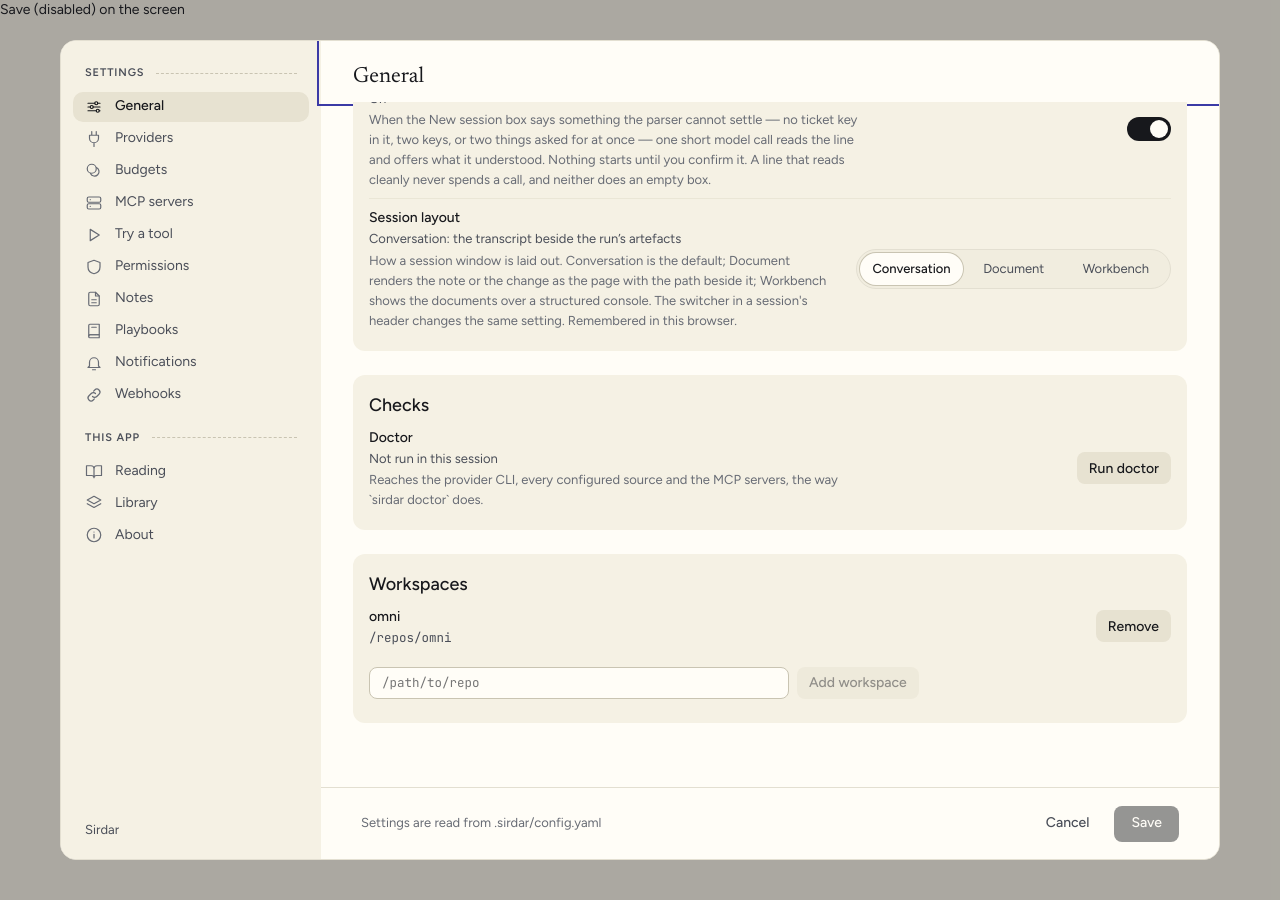
General › runs doctor and lists the rows with the CLI's own marks
(page scrolled)
Click the button "Run doctor".
click(1124, 468)  # box [1077,452,1171,484]
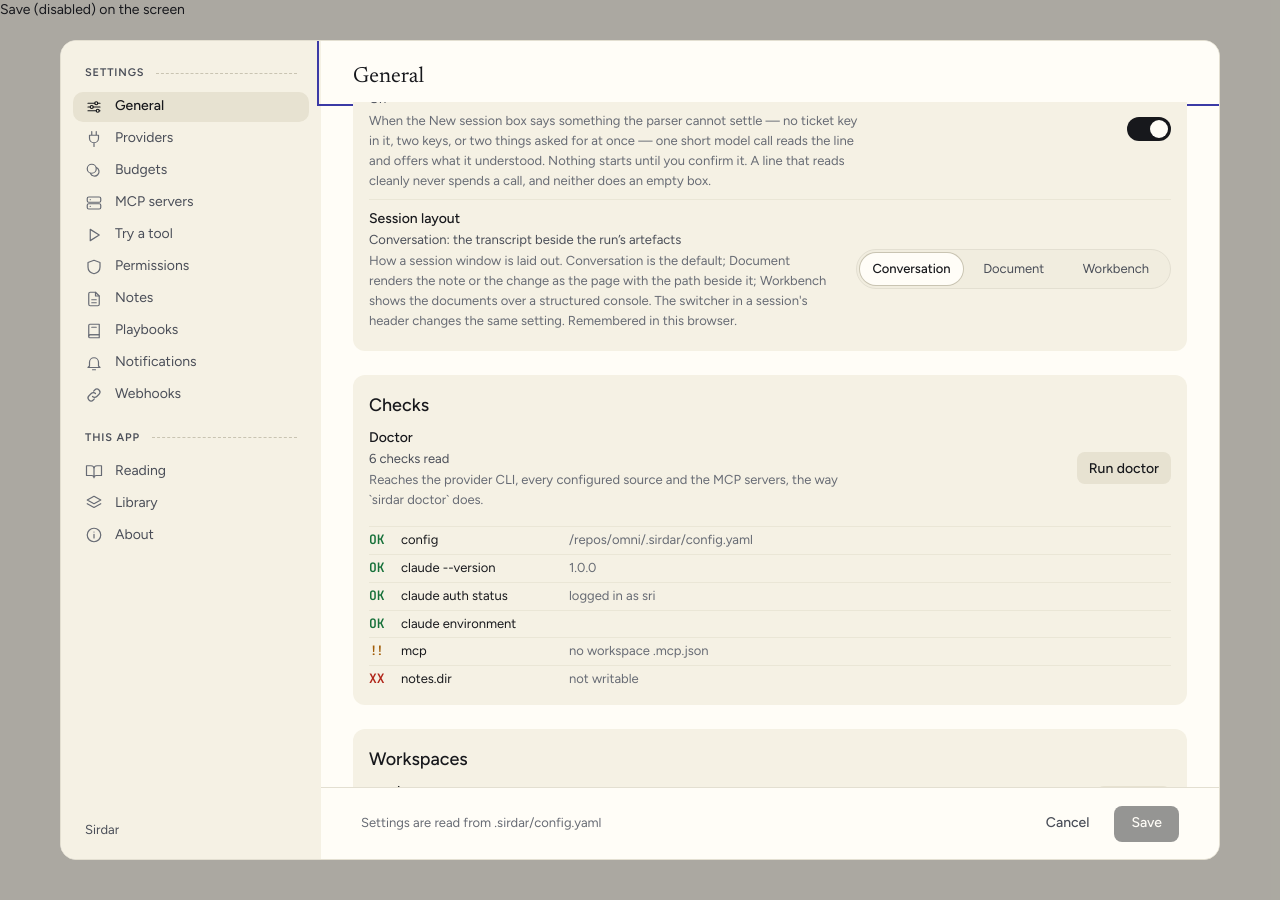
Now the text "6 checks read" is shown, box [369,451,449,466]
Now the text "!!" is shown, box [369,642,385,659]
Now the text "XX" is shown, box [369,670,385,687]
